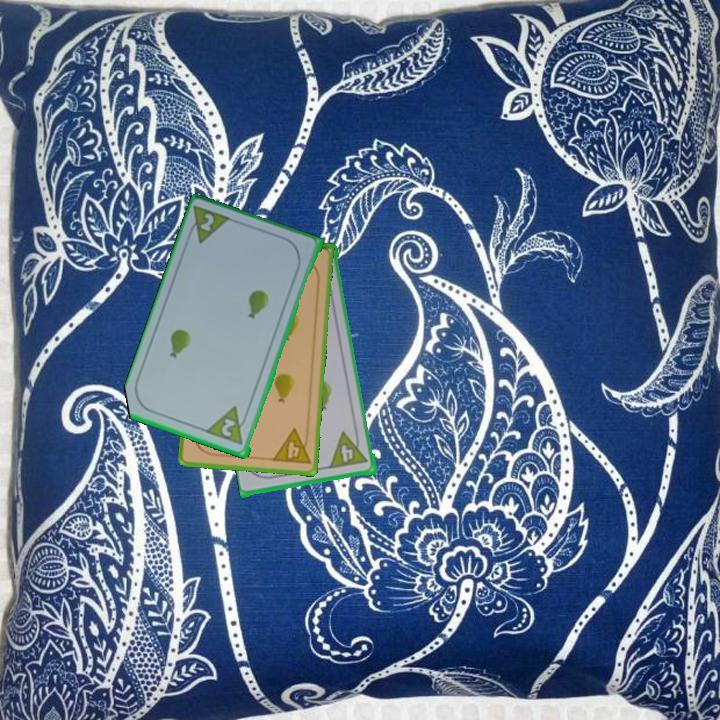2p: (218, 415, 239, 440), (197, 210, 217, 235)
4p: (269, 425, 313, 468), (326, 430, 359, 469)
